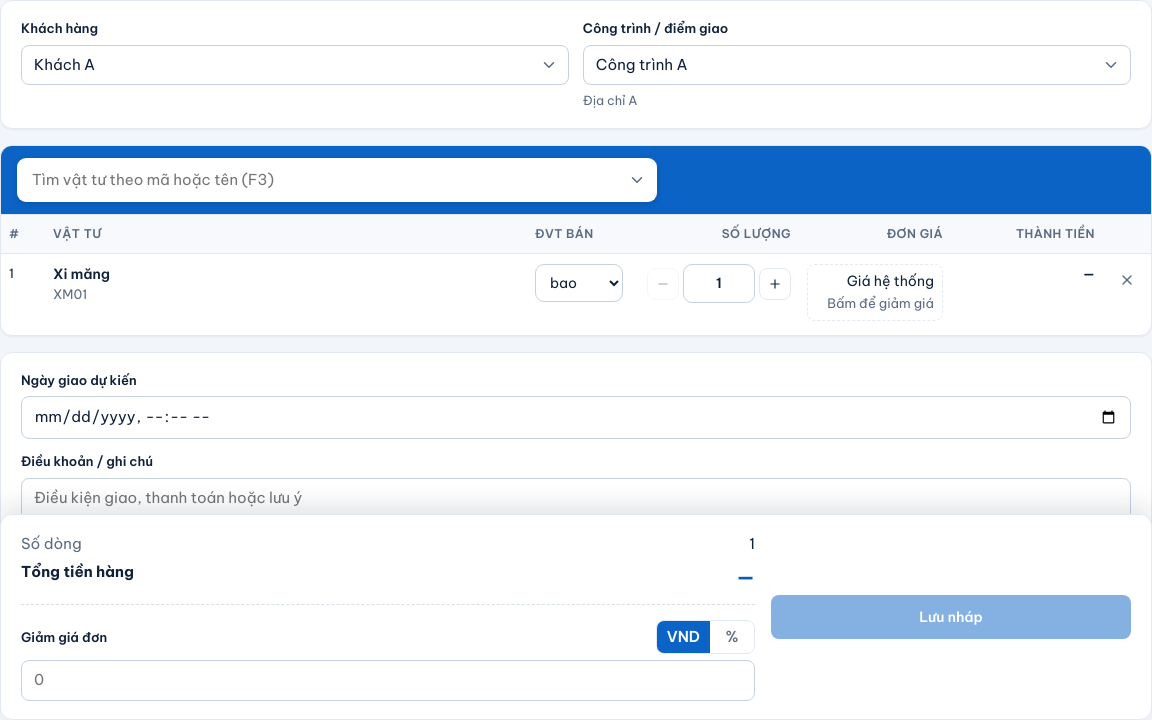
steps the quantity with − / + and keeps it positive
expect the button named "Giảm số lượng dòng 1" is disabled: met, box [647,268,679,300]
Click the button named "Tăng số lượng dòng 1" at (775, 284), box [759,268,791,300]
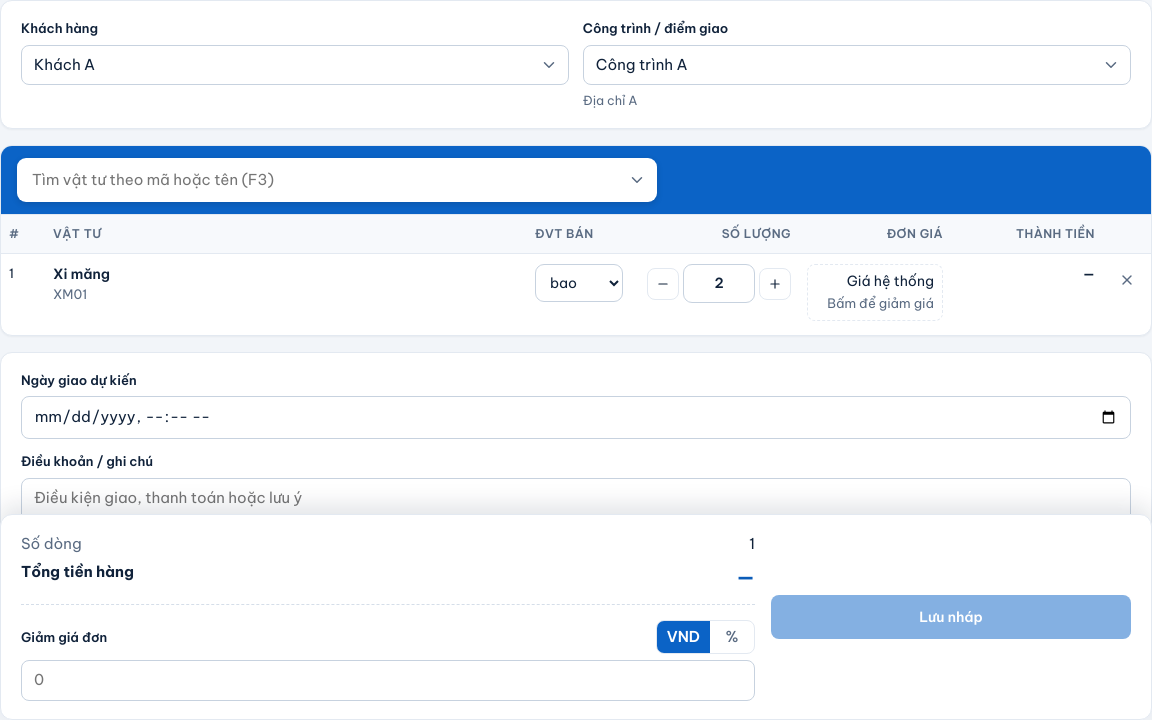
expect the field named "Số lượng dòng 1" holds "2": met
Replace the text in the field named "Số lượng dòng 1" with "1,5" at (719, 284), box [683,264,755,303]
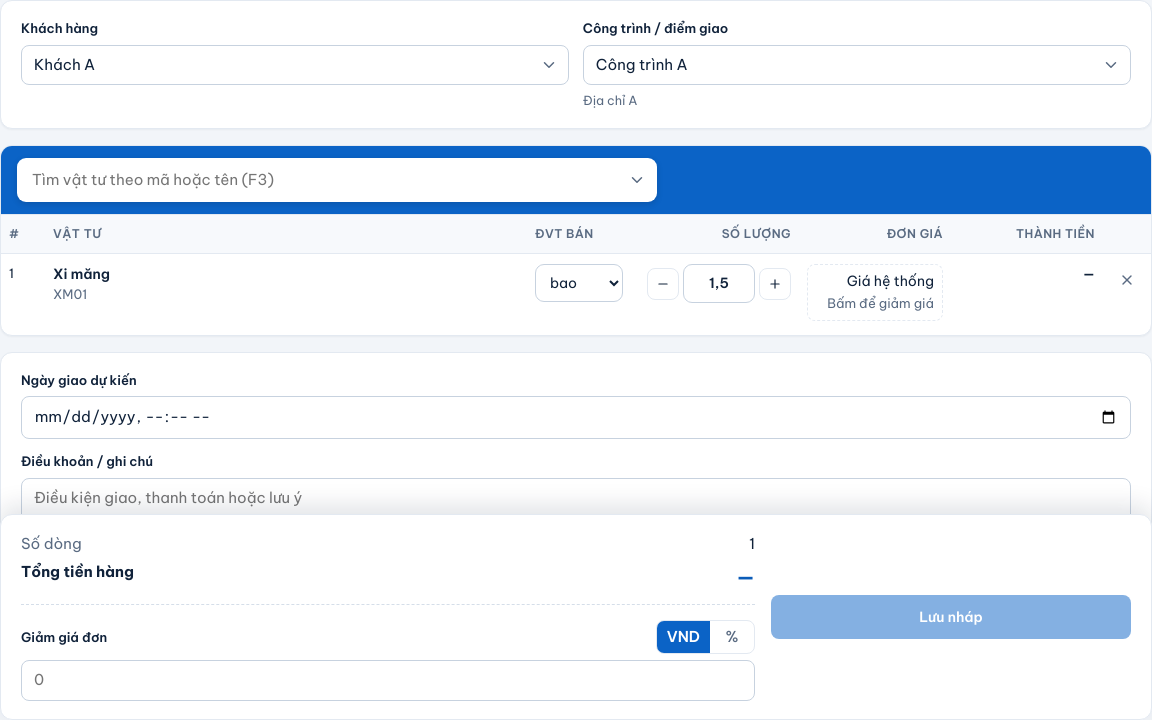
Click the button named "Tăng số lượng dòng 1" at (775, 284), box [759,268,791,300]
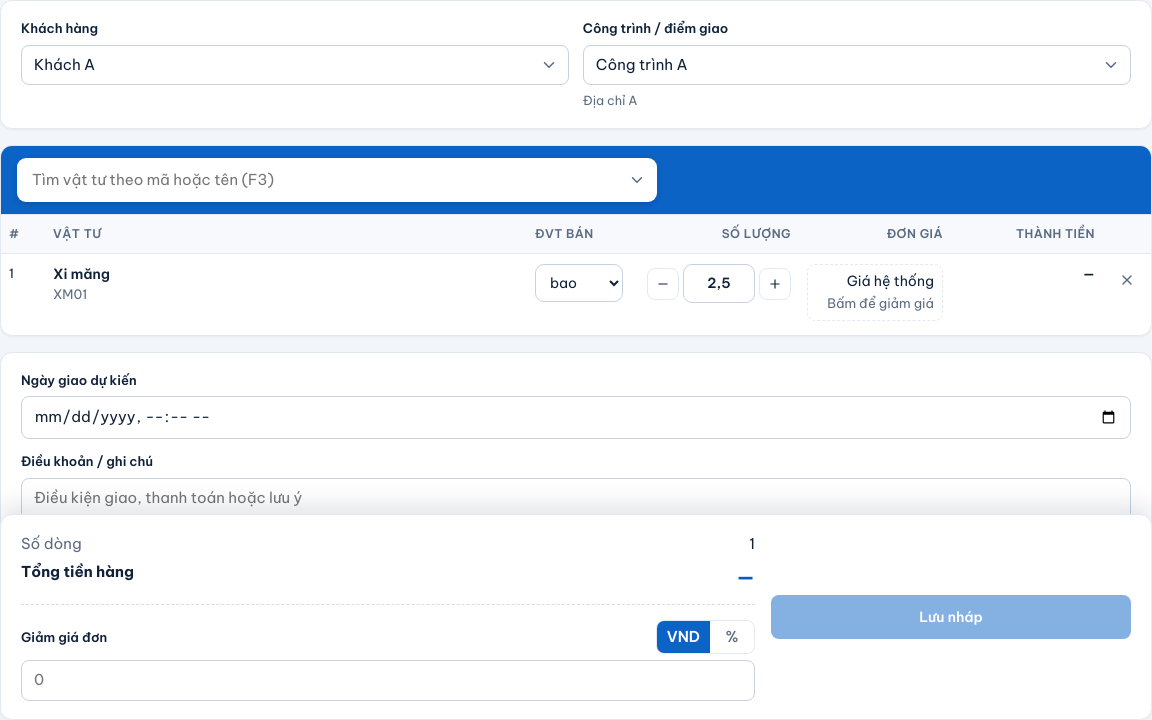
expect the field named "Số lượng dòng 1" holds "2,5": met, box [683,264,755,303]
Click the button named "Giảm số lượng dòng 1" at (663, 284), box [647,268,679,300]
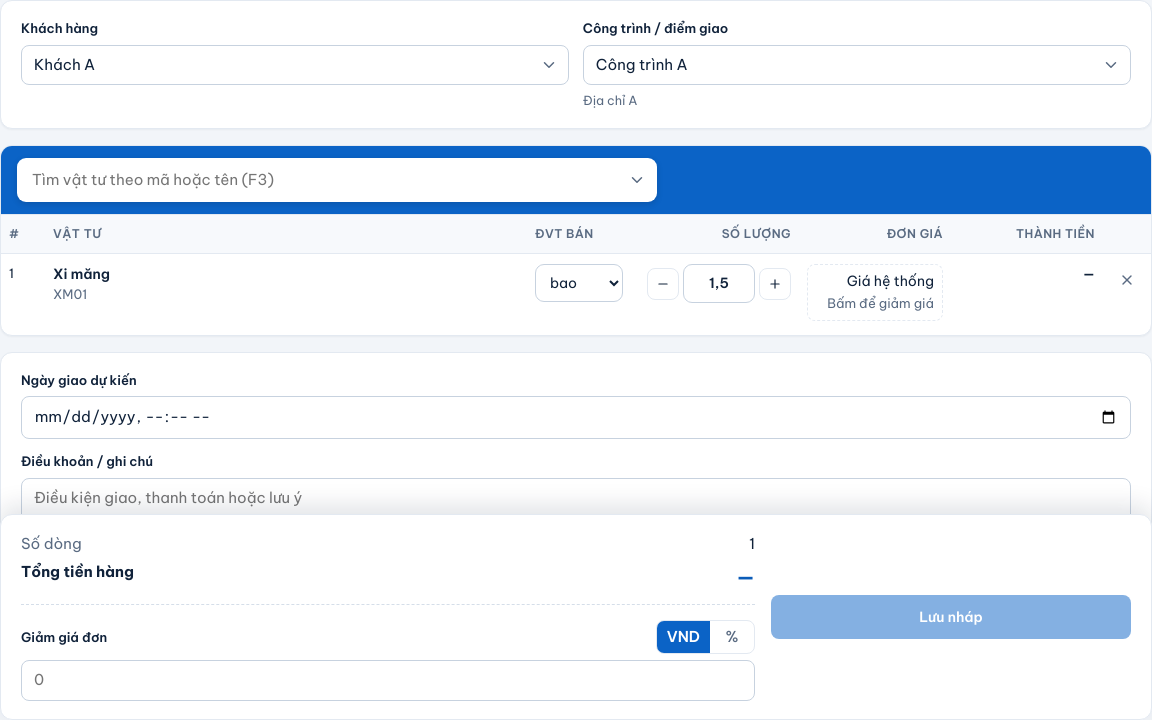
Click the button named "Giảm số lượng dòng 1" at (663, 284), box [647,268,679,300]
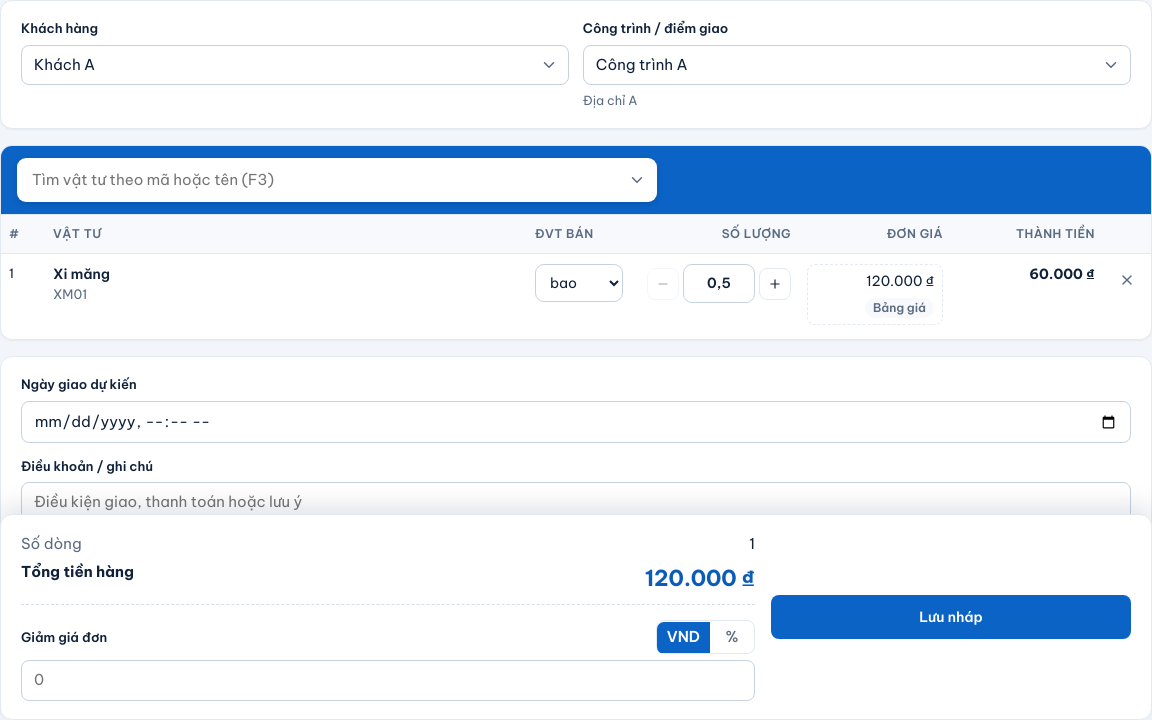
expect the field named "Số lượng dòng 1" holds "0,5": met, box [683,264,755,303]
